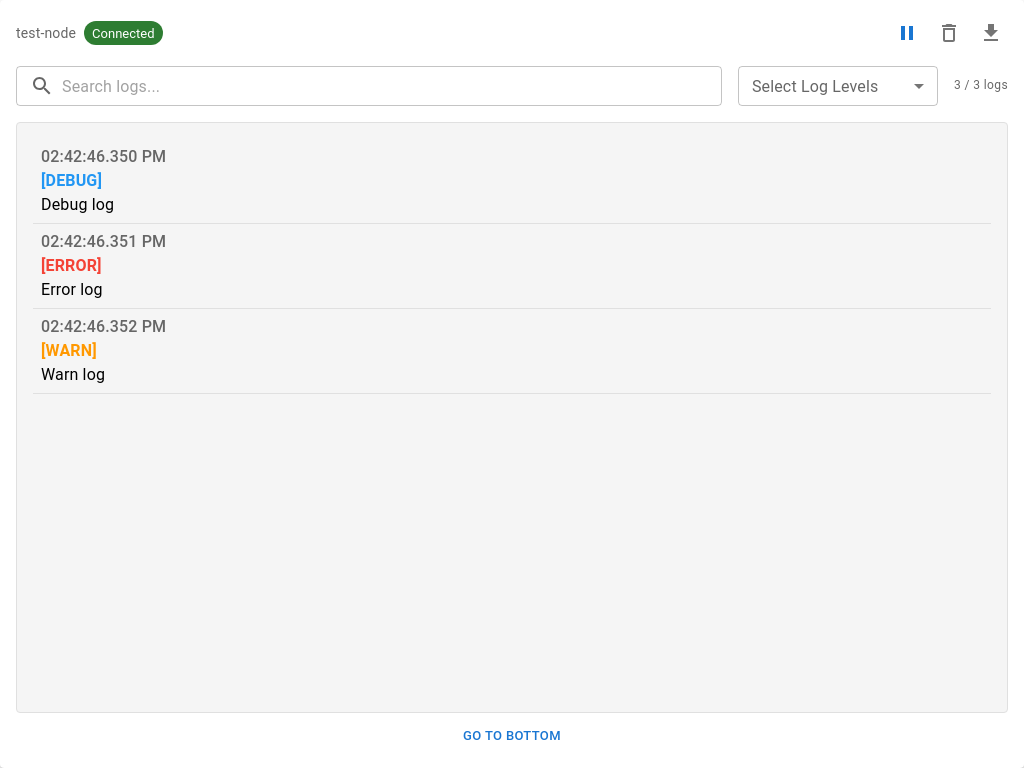
it: LogsViewer › Filters and search › filters by log level
Expected: the text "Debug log" is shown, [41, 195, 114, 214]
Press the mouse on the dropdown named "Select Log Levels" at (838, 86), box [738, 66, 938, 106]
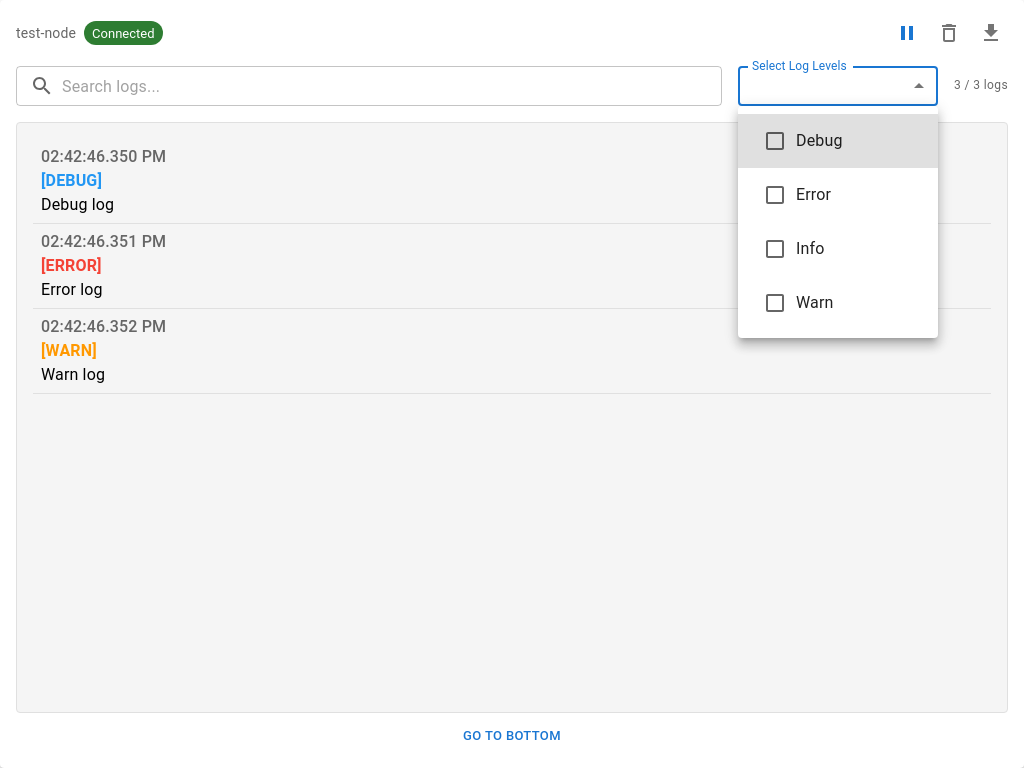
Click the option "Debug" at (838, 141), box [738, 114, 938, 168]
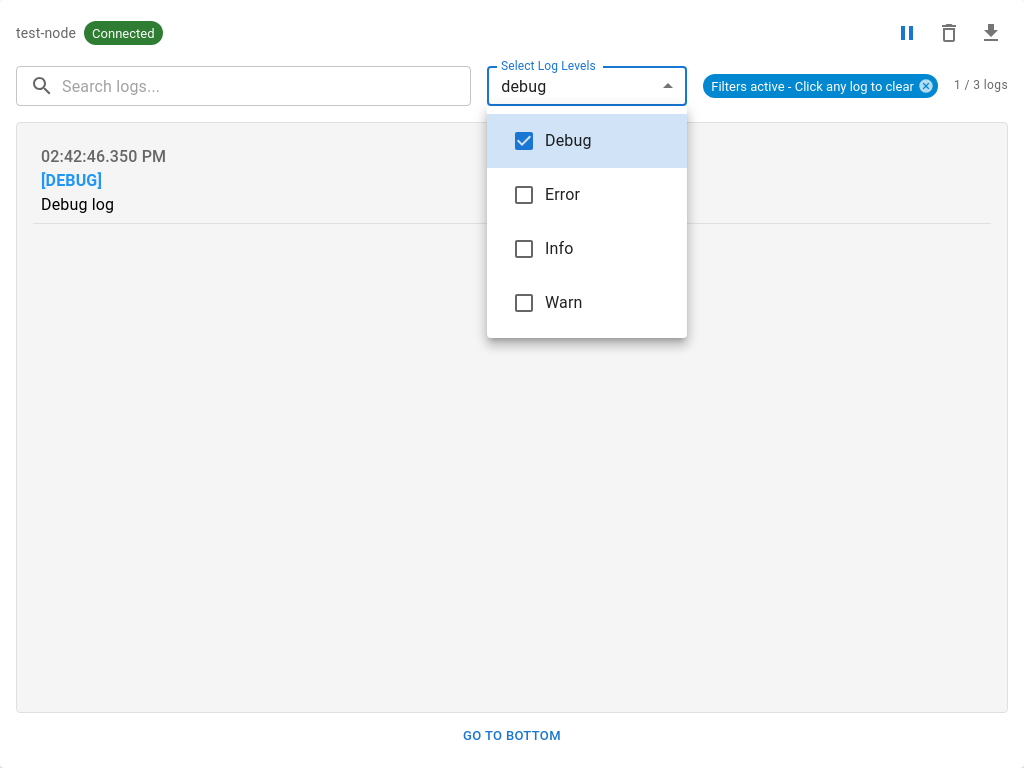
Expected: the text "Debug log" is shown, [41, 195, 114, 214]
Expected: the text "Error log" is gone
